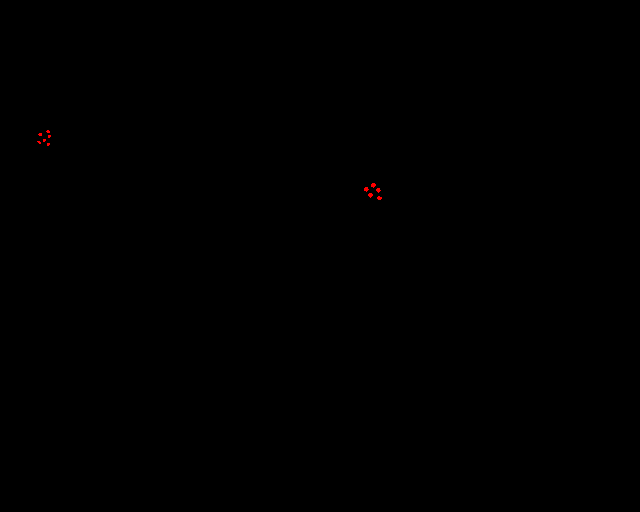Target: (371, 183, 376, 188), (364, 187, 369, 192), (376, 188, 381, 193), (368, 193, 373, 198), (377, 196, 382, 200), (46, 130, 50, 133), (38, 133, 42, 136), (37, 141, 41, 144), (48, 135, 51, 138), (43, 139, 46, 142), (47, 143, 50, 146)
